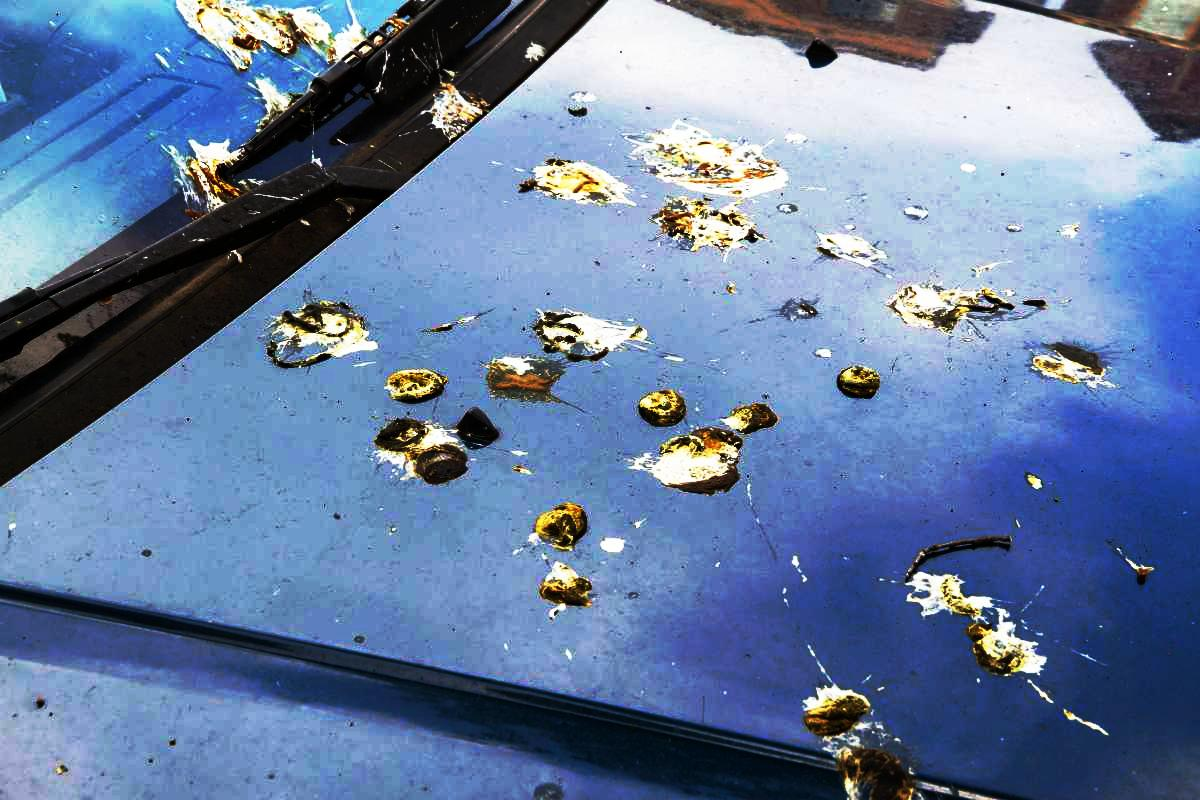Bird Poop: (630, 121, 786, 251), (906, 572, 1054, 704), (176, 0, 430, 73), (486, 312, 646, 394), (804, 686, 917, 799), (375, 409, 497, 483), (167, 138, 262, 218), (268, 301, 375, 367), (634, 429, 741, 492), (888, 285, 1014, 331), (521, 161, 634, 204), (430, 81, 485, 139), (252, 76, 305, 135), (1033, 343, 1104, 383), (535, 503, 587, 549), (817, 234, 886, 266), (540, 563, 591, 605), (386, 369, 447, 402), (721, 403, 776, 434), (639, 390, 685, 425), (1113, 547, 1154, 584), (1060, 707, 1108, 735), (837, 366, 879, 397), (755, 299, 818, 319), (431, 316, 477, 332), (524, 41, 545, 62), (600, 538, 624, 553), (1024, 473, 1044, 490), (903, 207, 928, 219), (1060, 224, 1079, 238), (785, 133, 806, 143), (1023, 299, 1046, 308), (961, 163, 975, 170)
